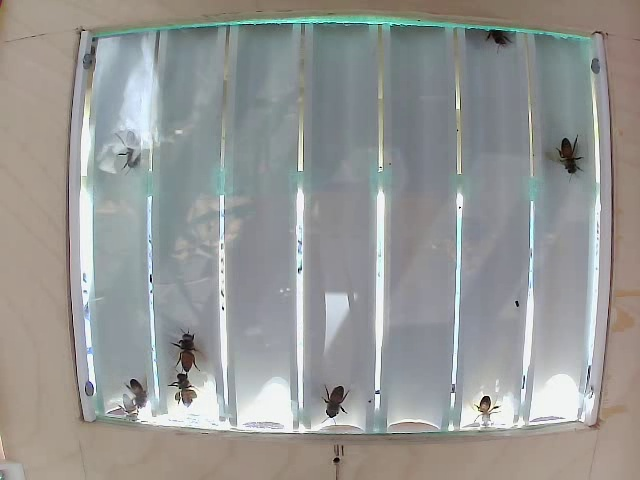bee: (305, 373, 366, 417), (110, 132, 163, 178), (558, 125, 592, 183), (161, 322, 211, 357), (166, 362, 206, 404), (122, 368, 162, 410), (463, 390, 499, 425), (475, 14, 507, 52)
